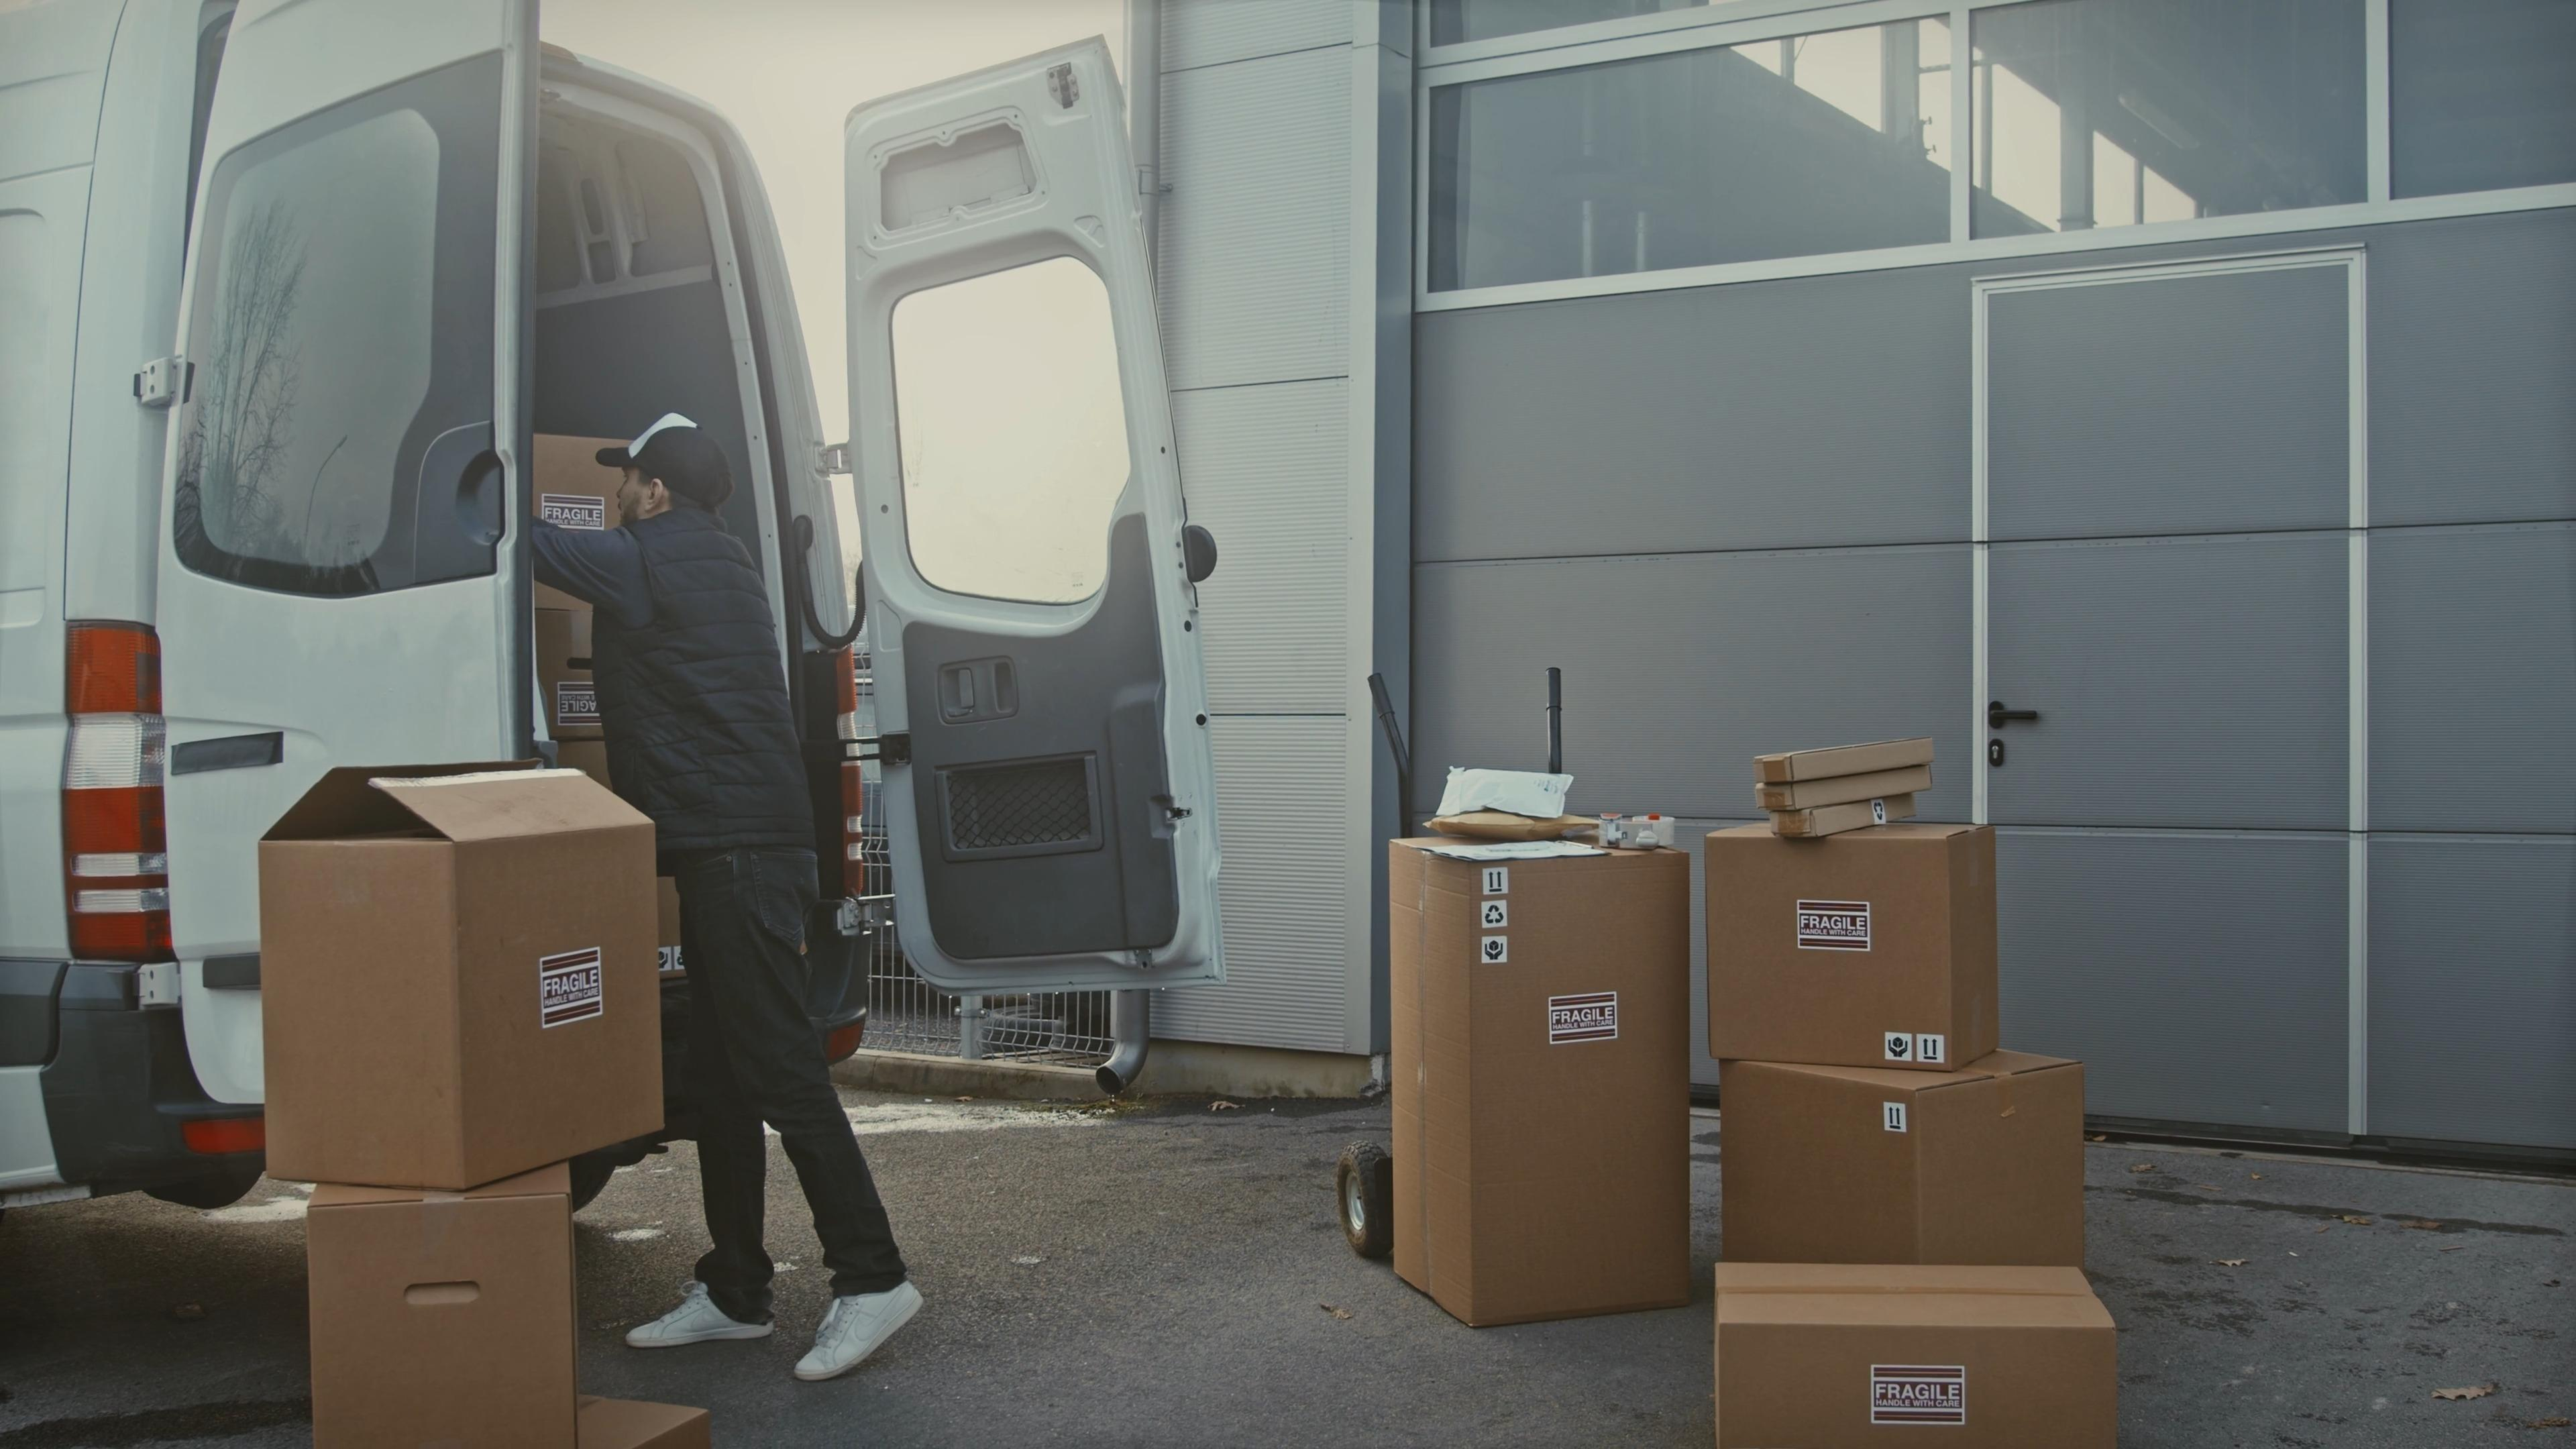-: (252, 749, 670, 1208), (1386, 816, 1697, 1329), (1688, 829, 1987, 1087), (1715, 1255, 2110, 1449), (1725, 1051, 2081, 1259), (311, 1175, 566, 1449)
